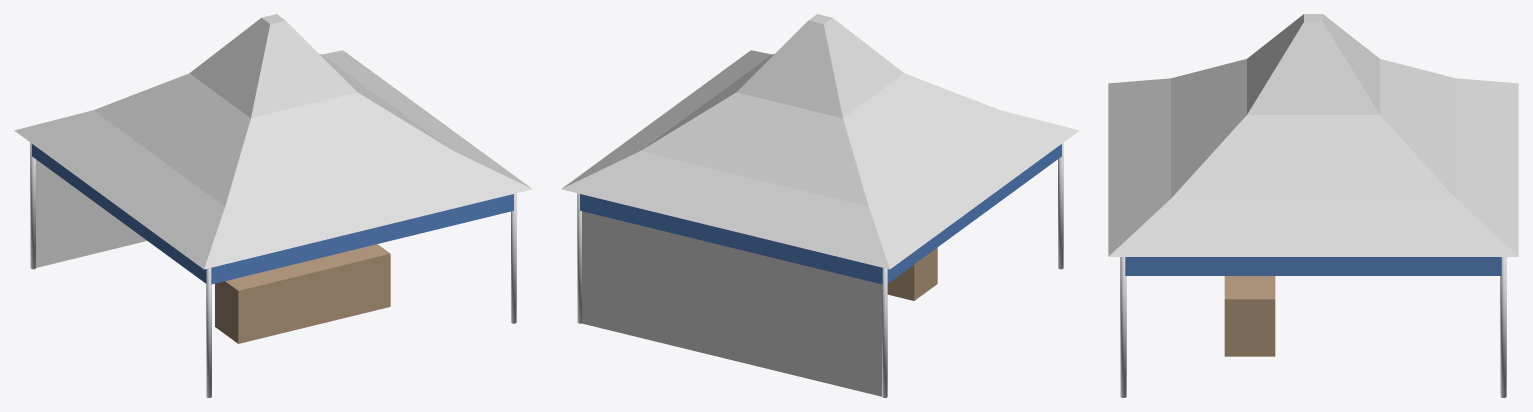
File: tent.glb
The picture shows the model from 3 angles, left to right: view 1: azimuth 30°, elevation 25°; view 2: azimuth 150°, elevation 25°; view 3: azimuth 270°, elevation 25°; orthographic projection. The views are drawn at different scales.
Parts seen in each view (by area): view 1: tent; view 2: tent; view 3: tent.
Part boxes in pixels (box(x1,y1,x2,y2)): tent: box(14, 14, 532, 397); tent: box(561, 14, 1079, 397); tent: box(1108, 14, 1518, 397).
Bounding box in the file's own units: 6.48 × 5.2 × 6.48.
